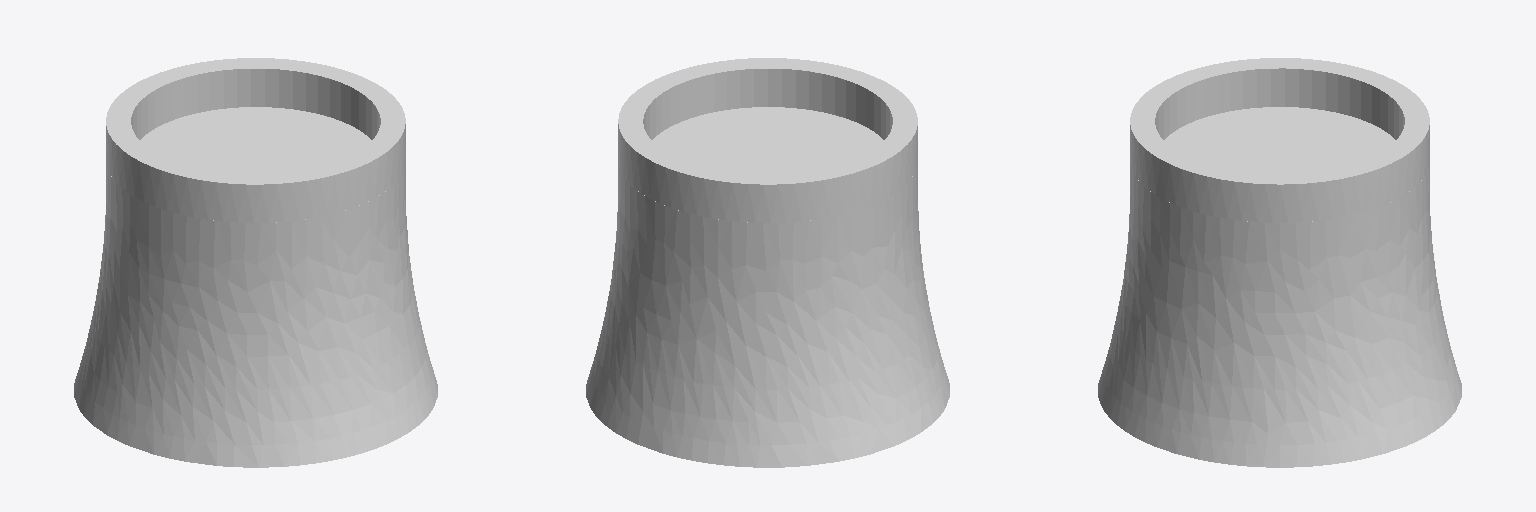
The picture shows the model from 3 angles: view 1: azimuth 30°, elevation 25°; view 2: azimuth 150°, elevation 25°; view 3: azimuth 270°, elevation 25°; orthographic projection.
Visible parts, largest first — view 1: base_object.009; view 2: base_object.009; view 3: base_object.009.
Part boxes in pixels (x1,y1,x2,y2): base_object.009: (74, 58, 437, 467); base_object.009: (586, 58, 949, 467); base_object.009: (1098, 58, 1461, 467).
Size of the model in its own units: 0.1459 by 0.119 by 0.146.